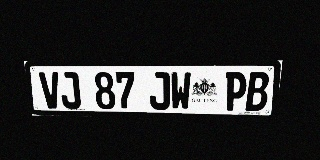7: (114, 72, 136, 109)
8: (94, 72, 116, 109)
B: (245, 72, 270, 111)
J: (58, 72, 81, 109), (149, 72, 170, 110)
P: (224, 72, 247, 111)
V: (39, 72, 62, 109)
W: (170, 72, 191, 110)
